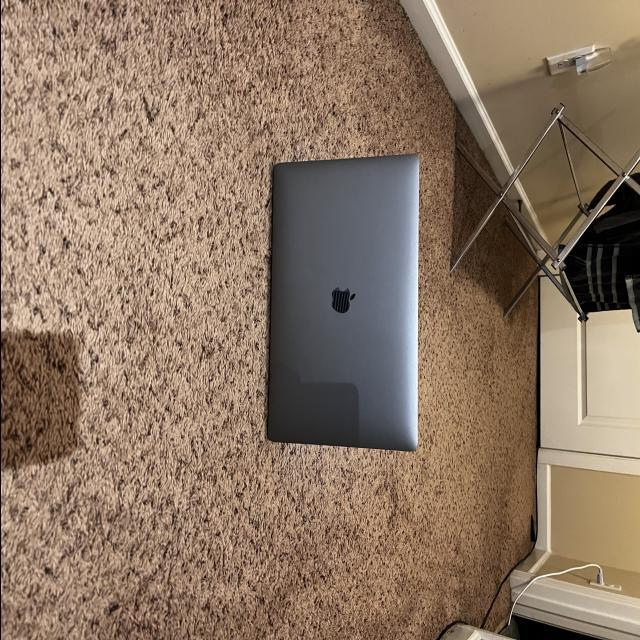laptop: (265, 152, 420, 451)
